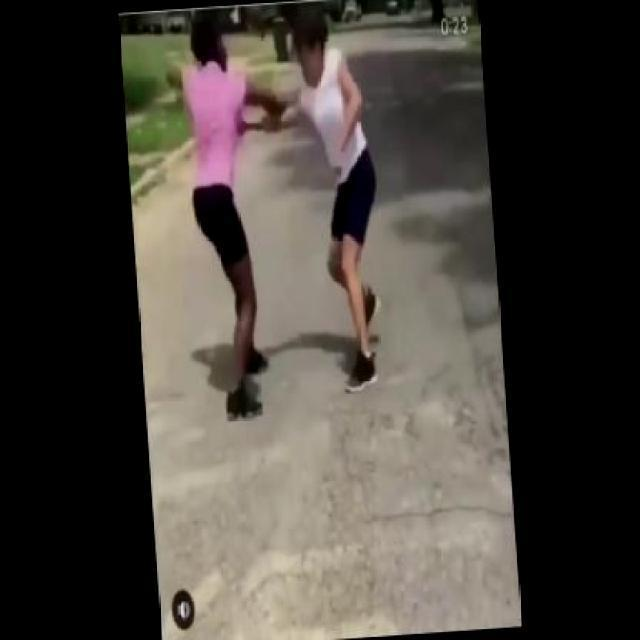fight: (161, 0, 394, 428)
